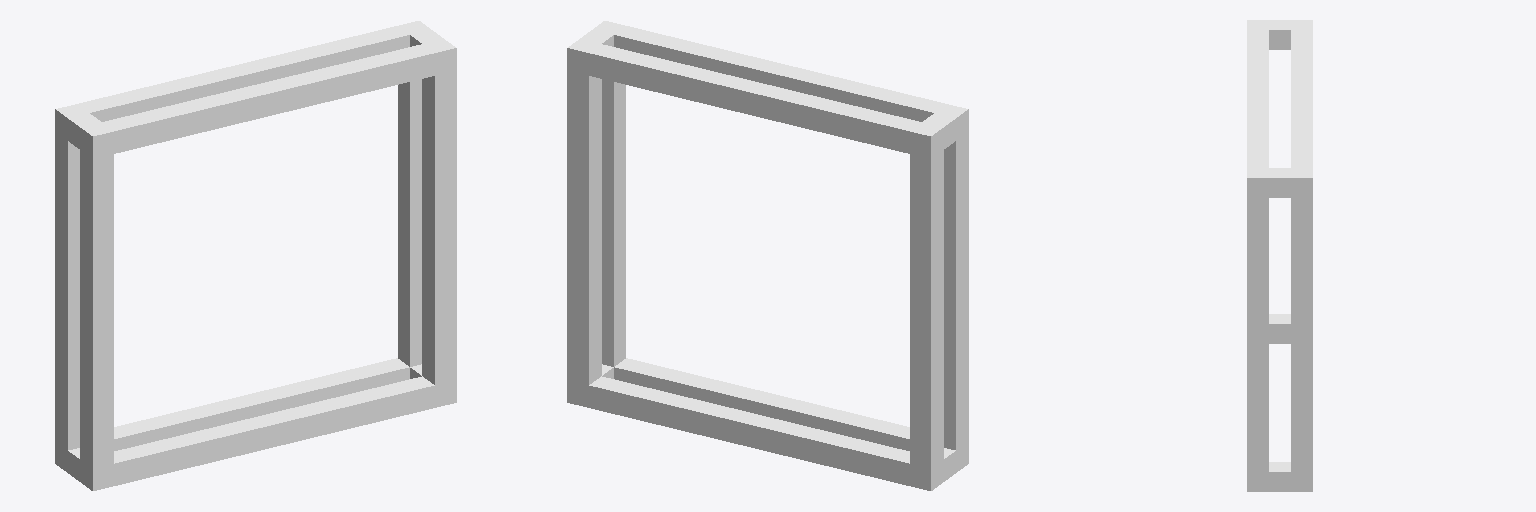
The robot description file, URDF, robot "geom_cuboid_wireframe":
<?xml version='1.0' encoding='UTF-8'?>
<robot name="geom_cuboid_wireframe">
  <link name="base">
    <inertial>
      <origin xyz="0.0 0.0 0.0" rpy="0.0 -0.0 0.0"/>
      <mass value="1.0"/>
      <inertia ixx="1.0" ixy="0.0" ixz="0.0" iyy="1.0" iyz="0.0" izz="1.0"/>
    </inertial>
    <visual>
      <geometry>
        <box size="2.02909078 0.12060548 0.12060548"/>
      </geometry>
      <material name="color[1.0, 1.0, 1.0, 1.0]"/>
      <origin xyz="0.0 0.1206054836511612 0.8857453465461731" rpy="0.0 0.0 0.0"/>
    </visual>
    <visual>
      <geometry>
        <box size="2.02909078 0.12060548 0.12060548"/>
      </geometry>
      <material name="color[1.0, 1.0, 1.0, 1.0]"/>
      <origin xyz="0.0 0.1206054836511612 -0.8857453465461731" rpy="0.0 0.0 0.0"/>
    </visual>
    <visual>
      <geometry>
        <box size="2.02909078 0.12060548 0.12060548"/>
      </geometry>
      <material name="color[1.0, 1.0, 1.0, 1.0]"/>
      <origin xyz="0.0 -0.1206054836511612 0.8857453465461731" rpy="0.0 0.0 0.0"/>
    </visual>
    <visual>
      <geometry>
        <box size="2.02909078 0.12060548 0.12060548"/>
      </geometry>
      <material name="color[1.0, 1.0, 1.0, 1.0]"/>
      <origin xyz="0.0 -0.1206054836511612 -0.8857453465461731" rpy="0.0 0.0 0.0"/>
    </visual>
    <visual>
      <geometry>
        <box size="0.12060548 0.36181645 0.12060548"/>
      </geometry>
      <material name="color[1.0, 1.0, 1.0, 1.0]"/>
      <origin xyz="0.9542426466941833 0.0 0.8857453465461731" rpy="0.0 0.0 0.0"/>
    </visual>
    <visual>
      <geometry>
        <box size="0.12060548 0.36181645 0.12060548"/>
      </geometry>
      <material name="color[1.0, 1.0, 1.0, 1.0]"/>
      <origin xyz="0.9542426466941833 0.0 -0.8857453465461731" rpy="0.0 0.0 0.0"/>
    </visual>
    <visual>
      <geometry>
        <box size="0.12060548 0.36181645 0.12060548"/>
      </geometry>
      <material name="color[1.0, 1.0, 1.0, 1.0]"/>
      <origin xyz="-0.9542426466941833 0.0 0.8857453465461731" rpy="0.0 0.0 0.0"/>
    </visual>
    <visual>
      <geometry>
        <box size="0.12060548 0.36181645 0.12060548"/>
      </geometry>
      <material name="color[1.0, 1.0, 1.0, 1.0]"/>
      <origin xyz="-0.9542426466941833 0.0 -0.8857453465461731" rpy="0.0 0.0 0.0"/>
    </visual>
    <visual>
      <geometry>
        <box size="0.12060548 0.12060548 1.89209618"/>
      </geometry>
      <material name="color[1.0, 1.0, 1.0, 1.0]"/>
      <origin xyz="0.9542426466941833 0.1206054836511612 0.0" rpy="0.0 0.0 0.0"/>
    </visual>
    <visual>
      <geometry>
        <box size="0.12060548 0.12060548 1.89209618"/>
      </geometry>
      <material name="color[1.0, 1.0, 1.0, 1.0]"/>
      <origin xyz="0.9542426466941833 -0.1206054836511612 0.0" rpy="0.0 0.0 0.0"/>
    </visual>
    <visual>
      <geometry>
        <box size="0.12060548 0.12060548 1.89209618"/>
      </geometry>
      <material name="color[1.0, 1.0, 1.0, 1.0]"/>
      <origin xyz="-0.9542426466941833 0.1206054836511612 0.0" rpy="0.0 0.0 0.0"/>
    </visual>
    <visual>
      <geometry>
        <box size="0.12060548 0.12060548 1.89209618"/>
      </geometry>
      <material name="color[1.0, 1.0, 1.0, 1.0]"/>
      <origin xyz="-0.9542426466941833 -0.1206054836511612 0.0" rpy="0.0 0.0 0.0"/>
    </visual>
    <collision>
      <geometry>
        <box size="2.02909078 0.12060548 0.12060548"/>
      </geometry>
      <origin xyz="0.0 0.1206054836511612 0.8857453465461731" rpy="0.0 0.0 0.0"/>
    </collision>
    <collision>
      <geometry>
        <box size="2.02909078 0.12060548 0.12060548"/>
      </geometry>
      <origin xyz="0.0 0.1206054836511612 -0.8857453465461731" rpy="0.0 0.0 0.0"/>
    </collision>
    <collision>
      <geometry>
        <box size="2.02909078 0.12060548 0.12060548"/>
      </geometry>
      <origin xyz="0.0 -0.1206054836511612 0.8857453465461731" rpy="0.0 0.0 0.0"/>
    </collision>
    <collision>
      <geometry>
        <box size="2.02909078 0.12060548 0.12060548"/>
      </geometry>
      <origin xyz="0.0 -0.1206054836511612 -0.8857453465461731" rpy="0.0 0.0 0.0"/>
    </collision>
    <collision>
      <geometry>
        <box size="0.12060548 0.36181645 0.12060548"/>
      </geometry>
      <origin xyz="0.9542426466941833 0.0 0.8857453465461731" rpy="0.0 0.0 0.0"/>
    </collision>
    <collision>
      <geometry>
        <box size="0.12060548 0.36181645 0.12060548"/>
      </geometry>
      <origin xyz="0.9542426466941833 0.0 -0.8857453465461731" rpy="0.0 0.0 0.0"/>
    </collision>
    <collision>
      <geometry>
        <box size="0.12060548 0.36181645 0.12060548"/>
      </geometry>
      <origin xyz="-0.9542426466941833 0.0 0.8857453465461731" rpy="0.0 0.0 0.0"/>
    </collision>
    <collision>
      <geometry>
        <box size="0.12060548 0.36181645 0.12060548"/>
      </geometry>
      <origin xyz="-0.9542426466941833 0.0 -0.8857453465461731" rpy="0.0 0.0 0.0"/>
    </collision>
    <collision>
      <geometry>
        <box size="0.12060548 0.12060548 1.89209618"/>
      </geometry>
      <origin xyz="0.9542426466941833 0.1206054836511612 0.0" rpy="0.0 0.0 0.0"/>
    </collision>
    <collision>
      <geometry>
        <box size="0.12060548 0.12060548 1.89209618"/>
      </geometry>
      <origin xyz="0.9542426466941833 -0.1206054836511612 0.0" rpy="0.0 0.0 0.0"/>
    </collision>
    <collision>
      <geometry>
        <box size="0.12060548 0.12060548 1.89209618"/>
      </geometry>
      <origin xyz="-0.9542426466941833 0.1206054836511612 0.0" rpy="0.0 0.0 0.0"/>
    </collision>
    <collision>
      <geometry>
        <box size="0.12060548 0.12060548 1.89209618"/>
      </geometry>
      <origin xyz="-0.9542426466941833 -0.1206054836511612 0.0" rpy="0.0 0.0 0.0"/>
    </collision>
  </link>
  <material name="color[1.0, 1.0, 1.0, 1.0]">
    <color rgba="1. 1. 1. 1."/>
  </material>
</robot>

--- Facts derived from the render (not from the file) ---
3 views of the same robot in one strip: view 1: azimuth 30°, elevation 25°; view 2: azimuth 150°, elevation 25°; view 3: azimuth 270°, elevation 25° (orthographic).
Model geom_cuboid_wireframe with 1 links and 0 joints (none), rooted at base, posed all joints at 0.
Links seen in each view (by area): view 1: base; view 2: base; view 3: base.
Boxes of the visible links, bbox=[...] form: base: bbox=[55, 21, 456, 490]; base: bbox=[567, 21, 968, 490]; base: bbox=[1247, 20, 1312, 491].
Size in the robot's own frame: 2.03 by 0.3618 by 1.89 metres.
Geometry: primitives only (box / cylinder / sphere), no mesh files.
